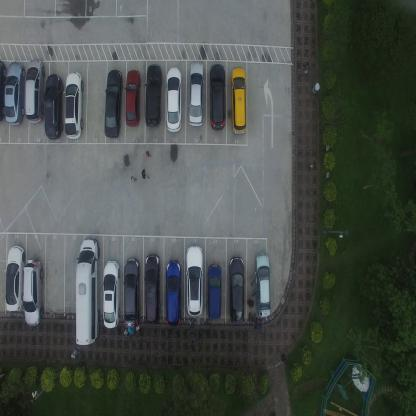car: (76, 234, 100, 346), (22, 258, 44, 326), (4, 243, 25, 312), (104, 67, 124, 138), (64, 70, 84, 140), (43, 73, 63, 141), (24, 57, 44, 124), (4, 59, 24, 126), (102, 258, 120, 328), (186, 244, 203, 316), (124, 255, 140, 329), (165, 258, 182, 326), (144, 251, 160, 323), (145, 64, 163, 127), (254, 252, 271, 318), (209, 62, 225, 132), (228, 255, 244, 325), (165, 67, 182, 132), (230, 66, 246, 135), (188, 60, 204, 128), (125, 68, 141, 127), (206, 263, 222, 320), (0, 58, 6, 121)
